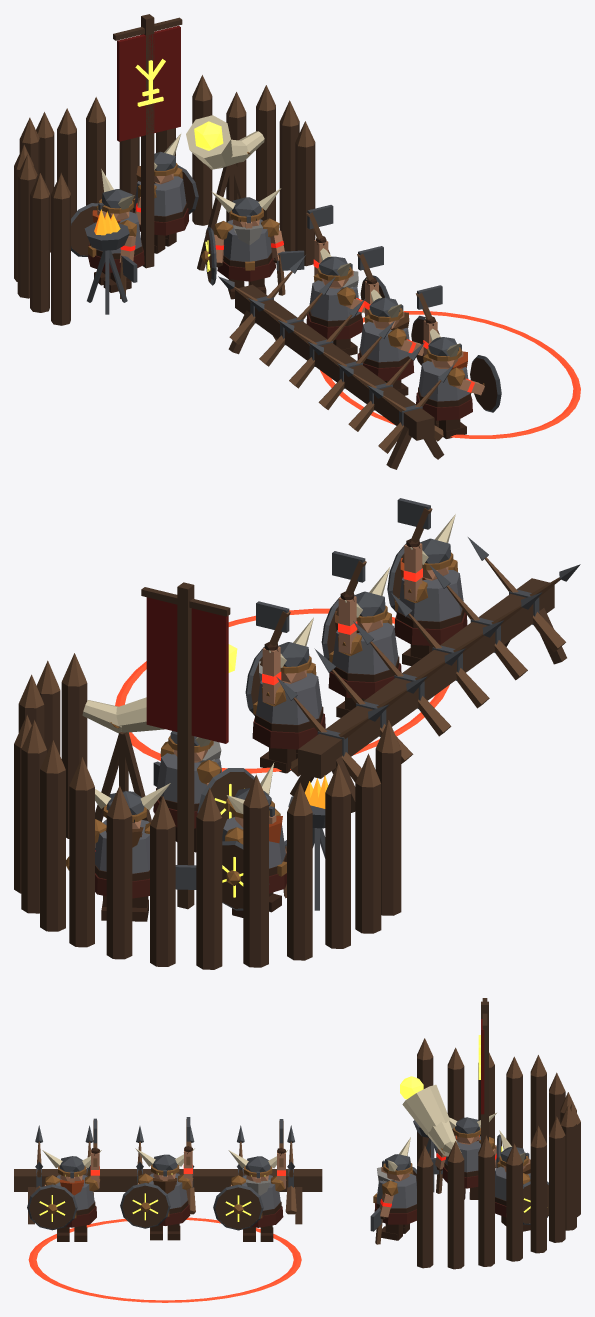
File: berserker_camp_lvl3.glb
3 renders of one model, top to bottom at view 1: azimuth 30°, elevation 25°; view 2: azimuth 150°, elevation 25°; view 3: azimuth 270°, elevation 25°, orthographic. The views are drawn at different scales.
Parts seen in each view (by area): view 1: Banner, Barricade_Log0, BannerPole, Palisade_14, Palisade_13, Palisade_0, Palisade_1, RageAura, Palisade_2, Palisade_12, Palisade_4, Palisade_7 (+18 smaller); view 2: Banner, Barricade_Log0, BannerPole, Palisade_10, Palisade_5, Palisade_6, Palisade_9, Palisade_13, Palisade_12, Palisade_7, Palisade_11, Palisade_8 (+34 smaller); view 3: Barricade_Log0, RageAura, Palisade_1, Palisade_2, Palisade_4, Palisade_5, Palisade_0, Palisade_3, Berserker_F2_ShieldDisc, Berserker_F0_ShieldDisc, Berserker_F1_ShieldDisc, Horn_2 (+15 smaller).
Boxes of the visible parts, x1=… form: Banner: x1=117, y1=25, x2=180, y2=141; Barricade_Log0: x1=235, y1=284, x2=434, y2=440; BannerPole: x1=141, y1=14, x2=154, y2=268; Palisade_14: x1=51, y1=194, x2=70, y2=325; Palisade_13: x1=30, y1=194, x2=49, y2=312; Palisade_0: x1=295, y1=142, x2=315, y2=266; Palisade_1: x1=279, y1=121, x2=299, y2=251; RageAura: x1=320, y1=311, x2=580, y2=438; Palisade_2: x1=256, y1=106, x2=275, y2=221; Palisade_12: x1=17, y1=175, x2=37, y2=298; Palisade_4: x1=192, y1=96, x2=212, y2=225; Palisade_7: x1=86, y1=118, x2=105, y2=205; Banner: x1=146, y1=597, x2=228, y2=743; Barricade_Log0: x1=298, y1=578, x2=554, y2=778; BannerPole: x1=177, y1=582, x2=194, y2=909; Palisade_10: x1=243, y1=804, x2=268, y2=967; Palisade_5: x1=40, y1=769, x2=65, y2=931; Palisade_6: x1=69, y1=786, x2=94, y2=947; Palisade_9: x1=196, y1=817, x2=222, y2=969; Palisade_13: x1=355, y1=783, x2=381, y2=933; Palisade_12: x1=325, y1=793, x2=350, y2=948; Palisade_7: x1=106, y1=815, x2=132, y2=959; Palisade_11: x1=287, y1=812, x2=312, y2=960; Palisade_8: x1=150, y1=825, x2=175, y2=966; Barricade_Log0: x1=14, y1=1169, x2=322, y2=1191; RageAura: x1=28, y1=1217, x2=301, y2=1302; Palisade_1: x1=447, y1=1160, x2=464, y2=1269; Palisade_2: x1=478, y1=1154, x2=494, y2=1266; Palisade_4: x1=530, y1=1145, x2=546, y2=1253; Palisade_5: x1=549, y1=1135, x2=565, y2=1242; Palisade_0: x1=417, y1=1164, x2=433, y2=1268; Palisade_3: x1=506, y1=1162, x2=522, y2=1261; Berserker_F2_ShieldDisc: x1=215, y1=1187, x2=261, y2=1229; Berserker_F0_ShieldDisc: x1=29, y1=1187, x2=75, y2=1229; Berserker_F1_ShieldDisc: x1=122, y1=1185, x2=168, y2=1227; Horn_2: x1=402, y1=1084, x2=450, y2=1134.
Bounding box in the file's own units: 2.95 × 2.01 × 4.87.
